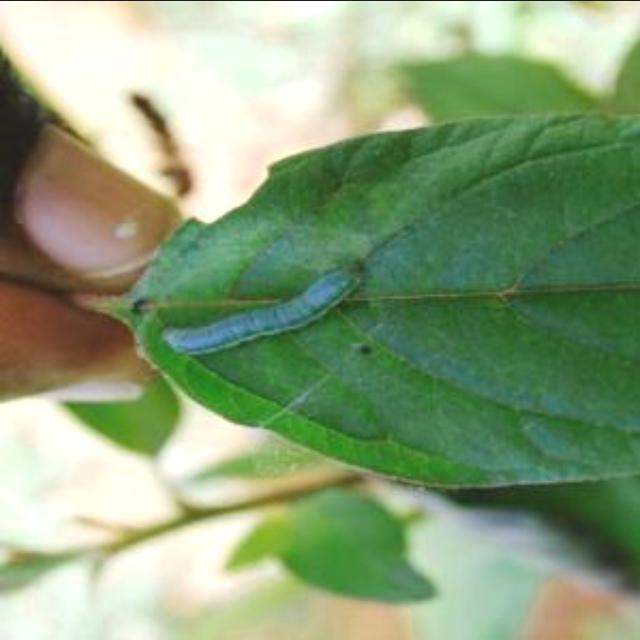Beet armyworm: (138, 242, 386, 412)
